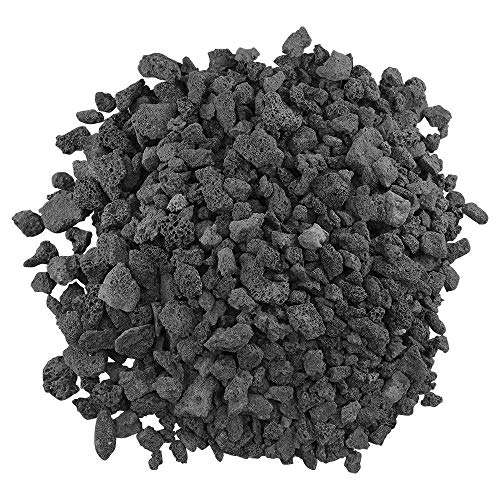volcanic_rock: (269, 417, 361, 464), (235, 247, 291, 308), (231, 124, 291, 176), (340, 127, 406, 173), (91, 262, 148, 313), (381, 66, 429, 124), (134, 55, 205, 93), (364, 187, 418, 236), (338, 314, 395, 360), (166, 374, 224, 419), (85, 151, 137, 200), (130, 100, 182, 146), (283, 297, 330, 347), (190, 164, 233, 217), (35, 189, 85, 233), (195, 323, 254, 360), (404, 221, 453, 261), (90, 403, 121, 466), (218, 366, 252, 421), (168, 260, 212, 302), (62, 343, 111, 379), (318, 46, 363, 85), (116, 368, 161, 404), (157, 303, 199, 341), (112, 321, 155, 356), (42, 254, 91, 284), (371, 241, 407, 280), (225, 209, 268, 241), (316, 169, 354, 204), (91, 231, 130, 265), (7, 208, 48, 240), (371, 373, 407, 408), (262, 380, 304, 409), (152, 375, 186, 409), (159, 212, 192, 247), (42, 359, 67, 399), (96, 121, 133, 147), (133, 211, 157, 242)
